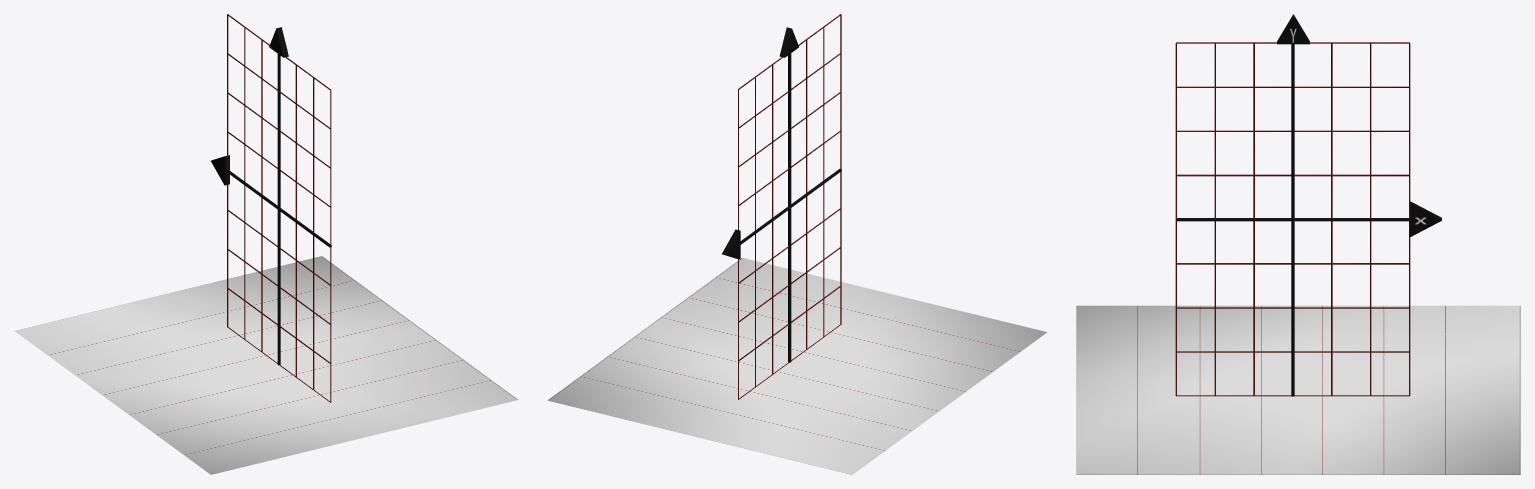
The picture shows the model from 3 angles, left to right: view 1: azimuth 30°, elevation 25°; view 2: azimuth 150°, elevation 25°; view 3: azimuth 270°, elevation 25°; orthographic projection. The views are drawn at different scales.
Visible parts, largest first — view 1: pPlane2, Grid_y_2_raizx1:nPower_0, pCylinder37; view 2: pPlane2, Grid_y_2_raizx1:nPower_0, pCylinder37; view 3: pPlane2, Grid_y_2_raizx1:nPower_0, pCylinder37, pCylinder36, polySurface36, polySurface35.
Part boxes in pixels (x1,y1,x2,y2): pPlane2: (15,256,517,474); Grid_y_2_raizx1:nPower_0: (227,14,331,402); pCylinder37: (277,54,280,365); pPlane2: (548,258,1047,474); Grid_y_2_raizx1:nPower_0: (738,14,841,399); pCylinder37: (788,53,791,362); pPlane2: (1076,305,1520,474); Grid_y_2_raizx1:nPower_0: (1175,42,1410,396); pCylinder37: (1291,44,1294,396); pCylinder36: (1177,218,1410,221); polySurface36: (1410,201,1441,236); polySurface35: (1277,14,1309,44).
Size of the model in its own units: 56.75 by 59.56 by 62.85.
